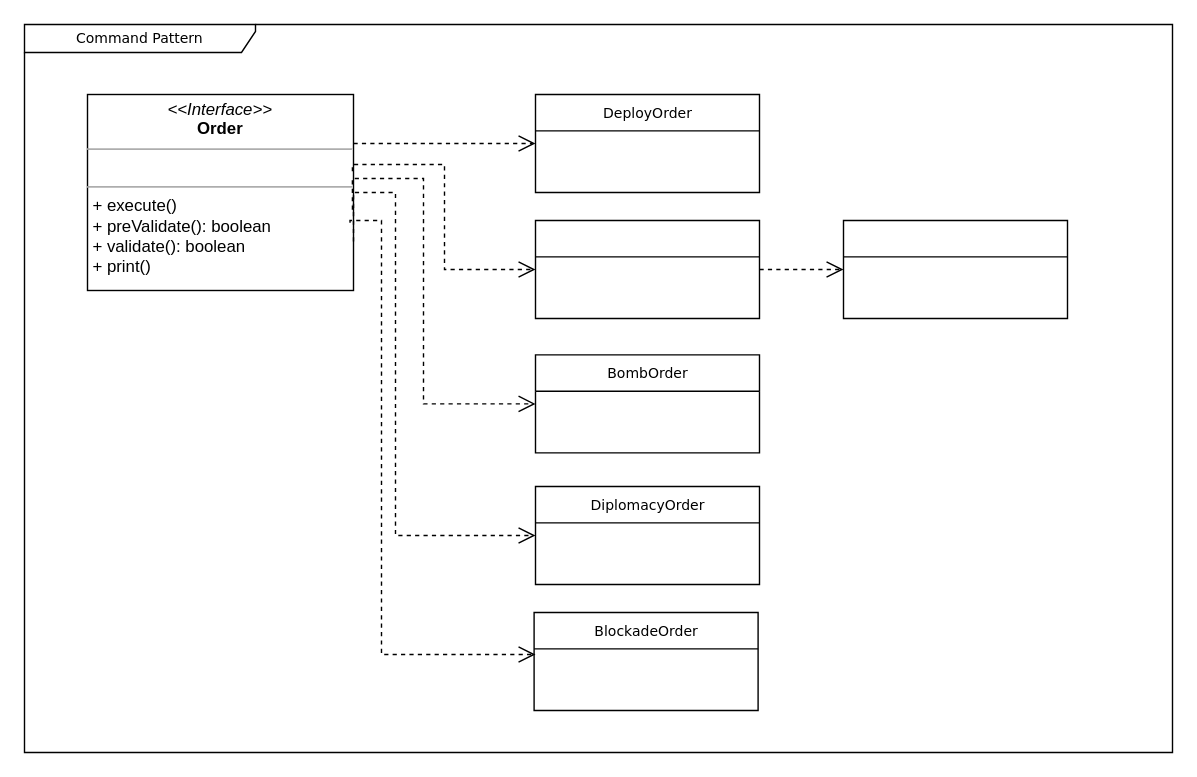
The diagram is 1197 pixels wide and 777 high, and some of its shapes have lost their labels. The shapes that lost their labels are listed below. From the top down, each one's centre as x and y in pixels, then its label:
At (647,268): "AdvanceOrder".
At (955,268): "AirliftOrder".
